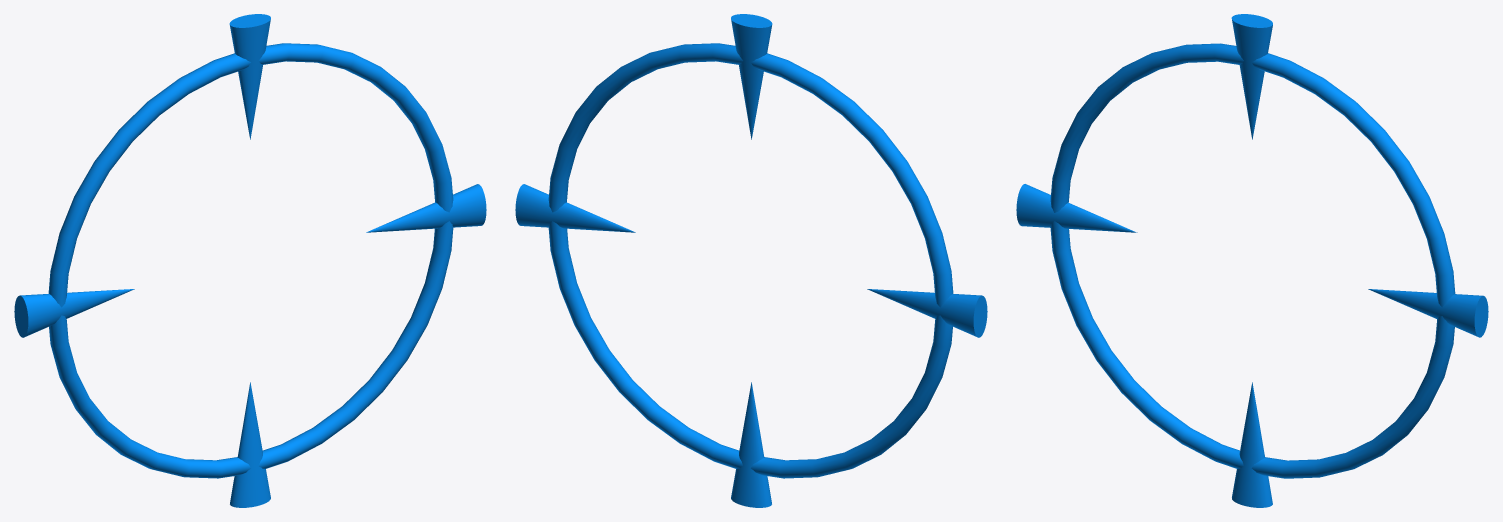
The model's file is ch_peaBlue.DAE.
3 views of the same model, side by side, from view 1: azimuth 30°, elevation 25°; view 2: azimuth 150°, elevation 25°; view 3: azimuth 330°, elevation 25° (orthographic).
Parts seen in each view (by area): view 1: Torus007, Kegel002, Kegel003, Kegel004, Kegel001; view 2: Torus007, Kegel002, Kegel003, Kegel004, Kegel001; view 3: Torus007, Kegel003, Kegel004, Kegel002, Kegel001.
Part boxes in pixels (x1,y1,x2,y2): Torus007: (48, 43, 453, 478); Kegel002: (14, 289, 134, 337); Kegel003: (229, 14, 270, 139); Kegel004: (366, 184, 486, 232); Kegel001: (230, 382, 270, 507); Torus007: (548, 43, 953, 478); Kegel002: (867, 289, 987, 337); Kegel003: (731, 14, 772, 139); Kegel004: (515, 184, 635, 232); Kegel001: (731, 382, 771, 507); Torus007: (1050, 43, 1455, 478); Kegel003: (1231, 14, 1272, 139); Kegel004: (1368, 289, 1488, 337); Kegel002: (1016, 184, 1137, 232); Kegel001: (1232, 382, 1272, 507).
Bounding box in the file's own units: 0.3064 × 0.0161 × 0.3068.
1 material, 1 textured.
